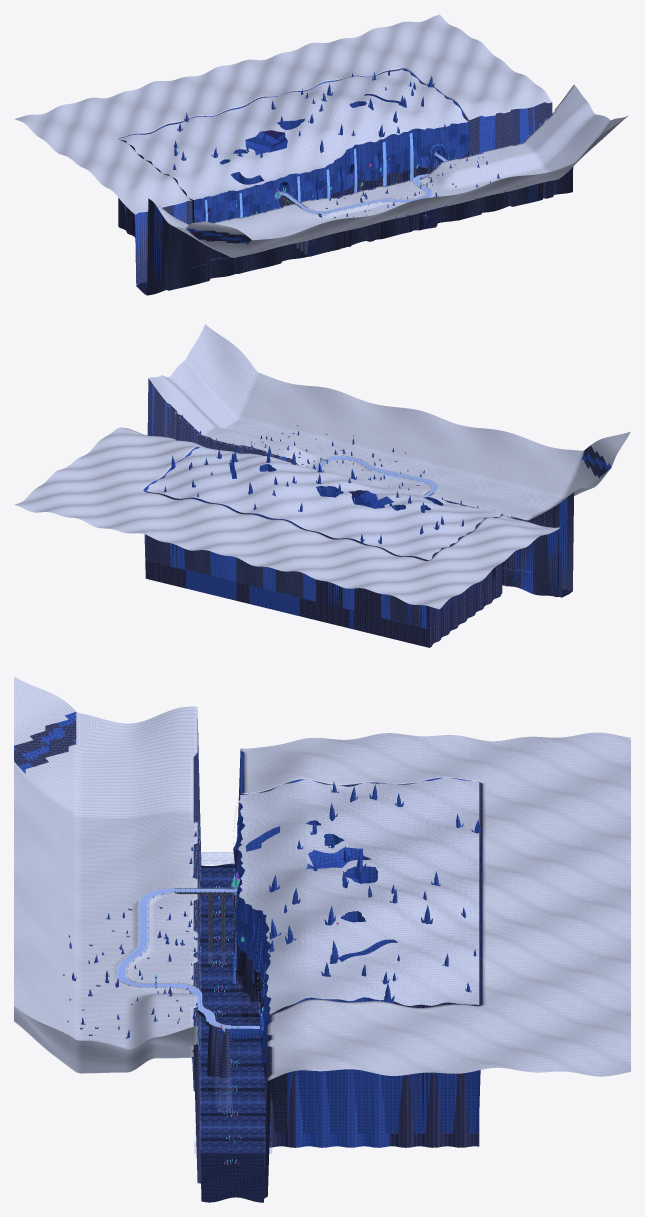
The picture shows the model from 3 angles, top to bottom: view 1: azimuth 30°, elevation 25°; view 2: azimuth 150°, elevation 25°; view 3: azimuth 270°, elevation 25°; orthographic projection. The views are drawn at different scales.
Visible parts, largest first — view 1: Land, Glacier; view 2: Land, Glacier; view 3: Land, Glacier, Bridges visual 0 0, Rift Mist.023, Rift Mist.022, Rift Mist.020, Rift Mist.021, Rift Mist.019, Rift Mist.018.
Part boxes in pixels (x1,y1,x2,y2): Land: [14, 14, 628, 295]; Glacier: [118, 69, 469, 244]; Land: [14, 324, 630, 628]; Glacier: [145, 447, 502, 647]; Land: [14, 676, 630, 1202]; Glacier: [232, 777, 479, 1147]; Bridges visual 0 0: [197, 892, 259, 1039]; Rift Mist.023: [194, 1141, 271, 1153]; Rift Mist.022: [195, 1125, 270, 1137]; Rift Mist.020: [200, 1100, 271, 1112]; Rift Mist.021: [200, 1116, 270, 1128]; Rift Mist.019: [200, 1092, 264, 1103]; Rift Mist.018: [194, 1076, 264, 1087].
Size of the model in its own units: 1620 by 467 by 1260.
Materials: 34 (34 with a texture image).
